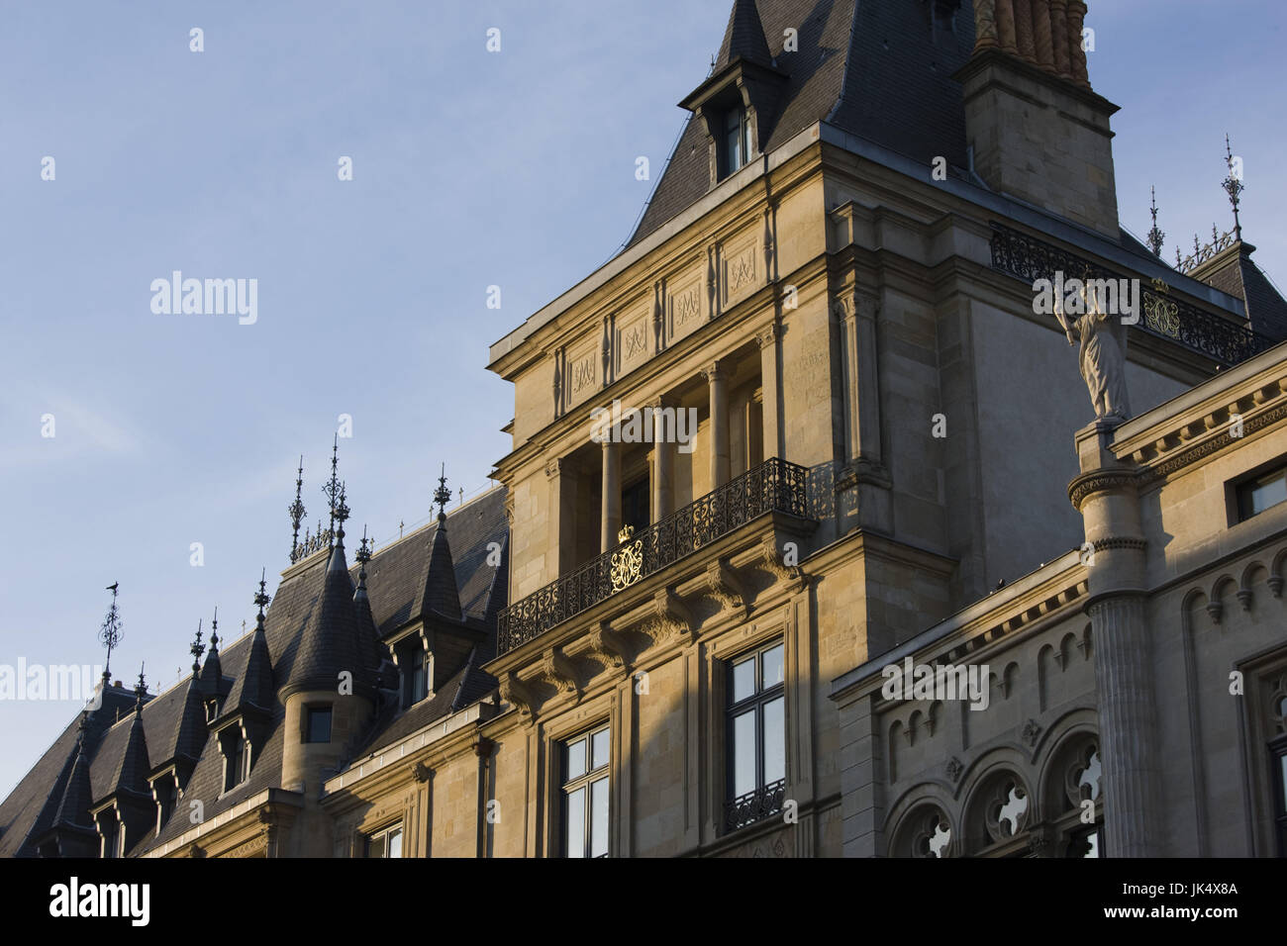Videoprojecteur: (807, 586, 1103, 848)
